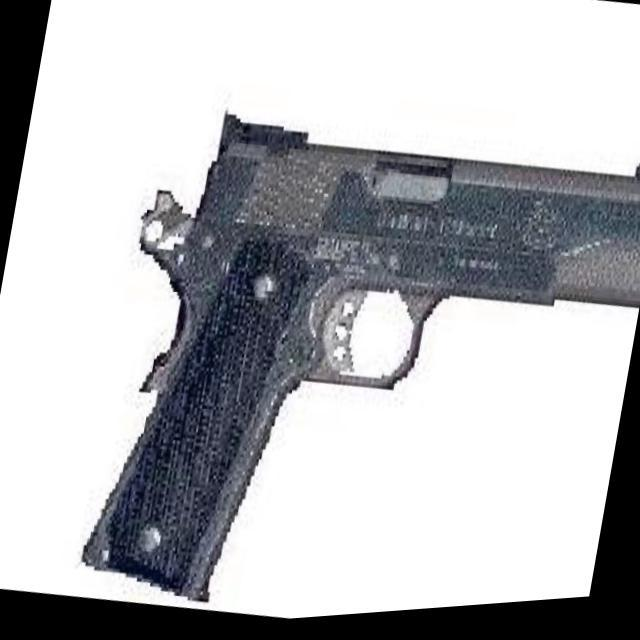weapon: (71, 71, 640, 636)
